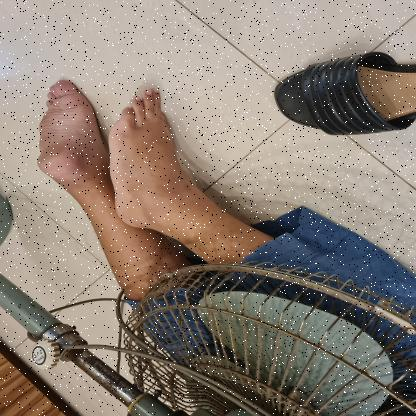leg: (94, 80, 270, 266), (18, 68, 159, 296)
